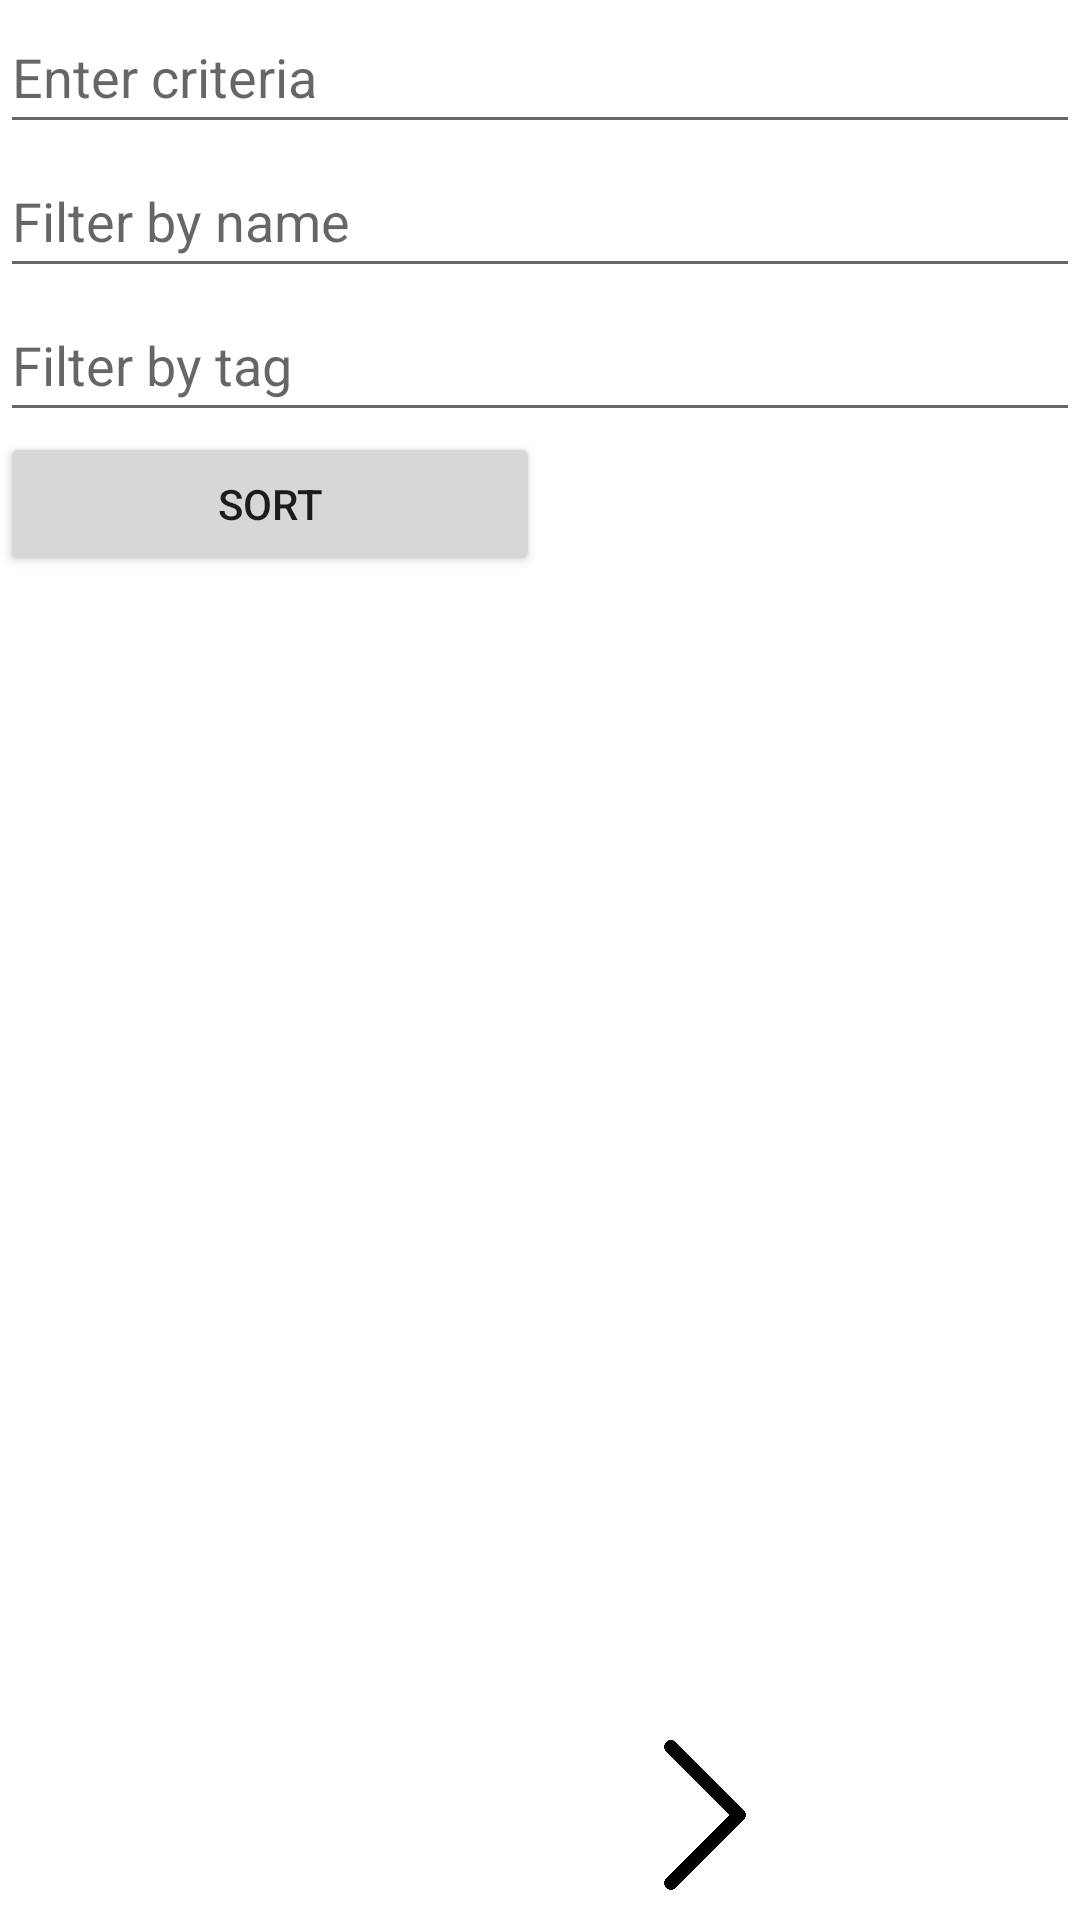

Icons on this 1080*1920 Android screen, each with its box as (x1, y1, x2, y2):
forward pagination: (664, 1740, 746, 1890)
